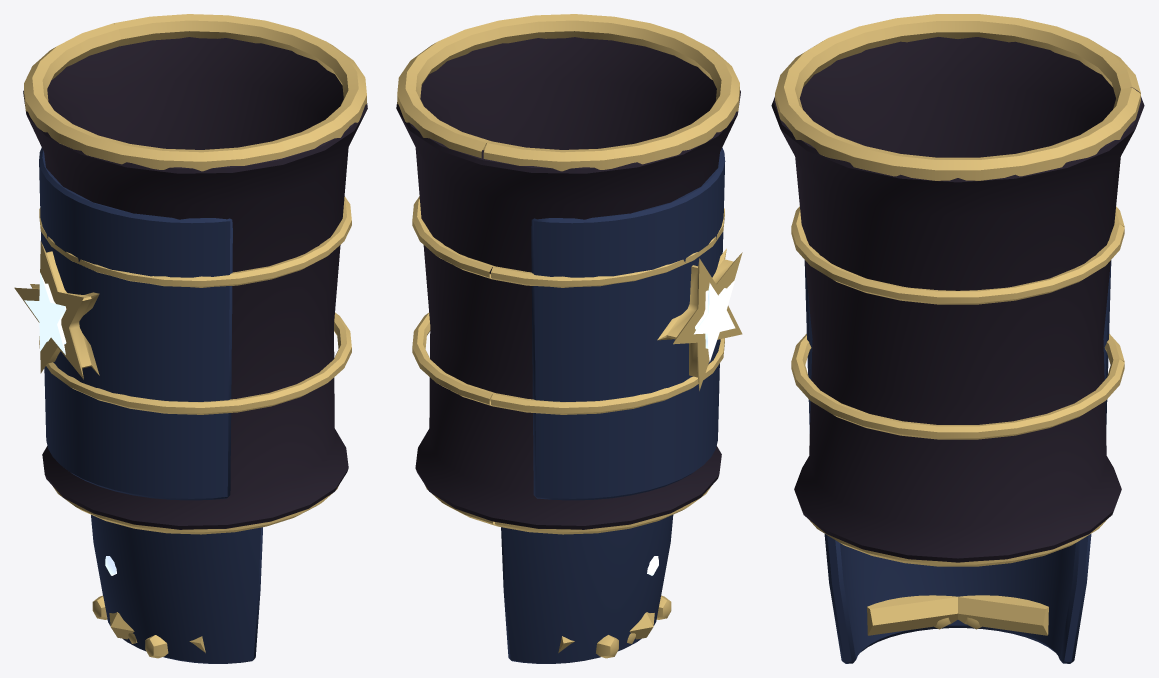
File: boss_starfall_hunter_gloves_2.glb
The picture shows the model from 3 angles, left to right: view 1: azimuth 30°, elevation 25°; view 2: azimuth 150°, elevation 25°; view 3: azimuth 270°, elevation 25°; orthographic projection. The views are drawn at different scales.
Parts seen in each view (by area): view 1: boss_starfall_hunter_gloves_2, AT_hand_R; view 2: boss_starfall_hunter_gloves_2, AT_hand_R; view 3: boss_starfall_hunter_gloves_2, AT_hand_R.
Boxes of the visible parts, <box> form: boss_starfall_hunter_gloves_2: <box>14,14,367,534</box>; AT_hand_R: <box>91,515,262,663</box>; boss_starfall_hunter_gloves_2: <box>396,14,742,534</box>; AT_hand_R: <box>501,515,673,663</box>; boss_starfall_hunter_gloves_2: <box>771,14,1144,566</box>; AT_hand_R: <box>824,534,1091,663</box>.
Bounding box in the file's own units: 0.1971 × 0.3408 × 0.2004.
